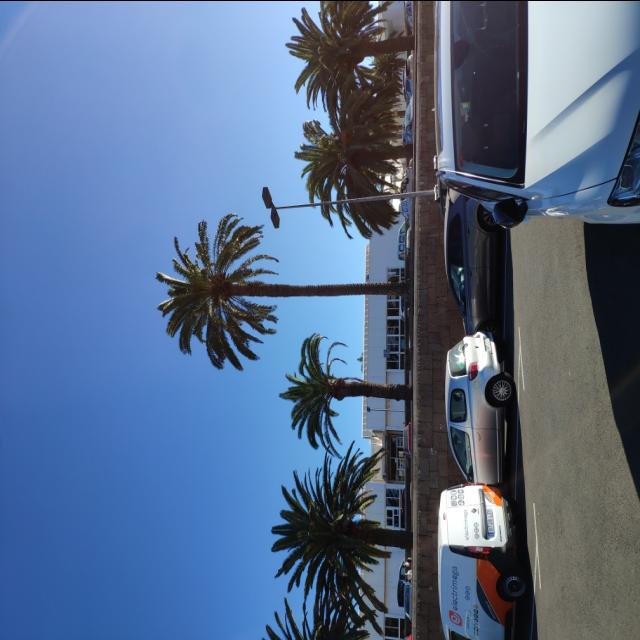Palm-Trees: (155, 212, 404, 366), (272, 444, 410, 616), (294, 90, 414, 230), (278, 332, 410, 448), (286, 0, 412, 118)
